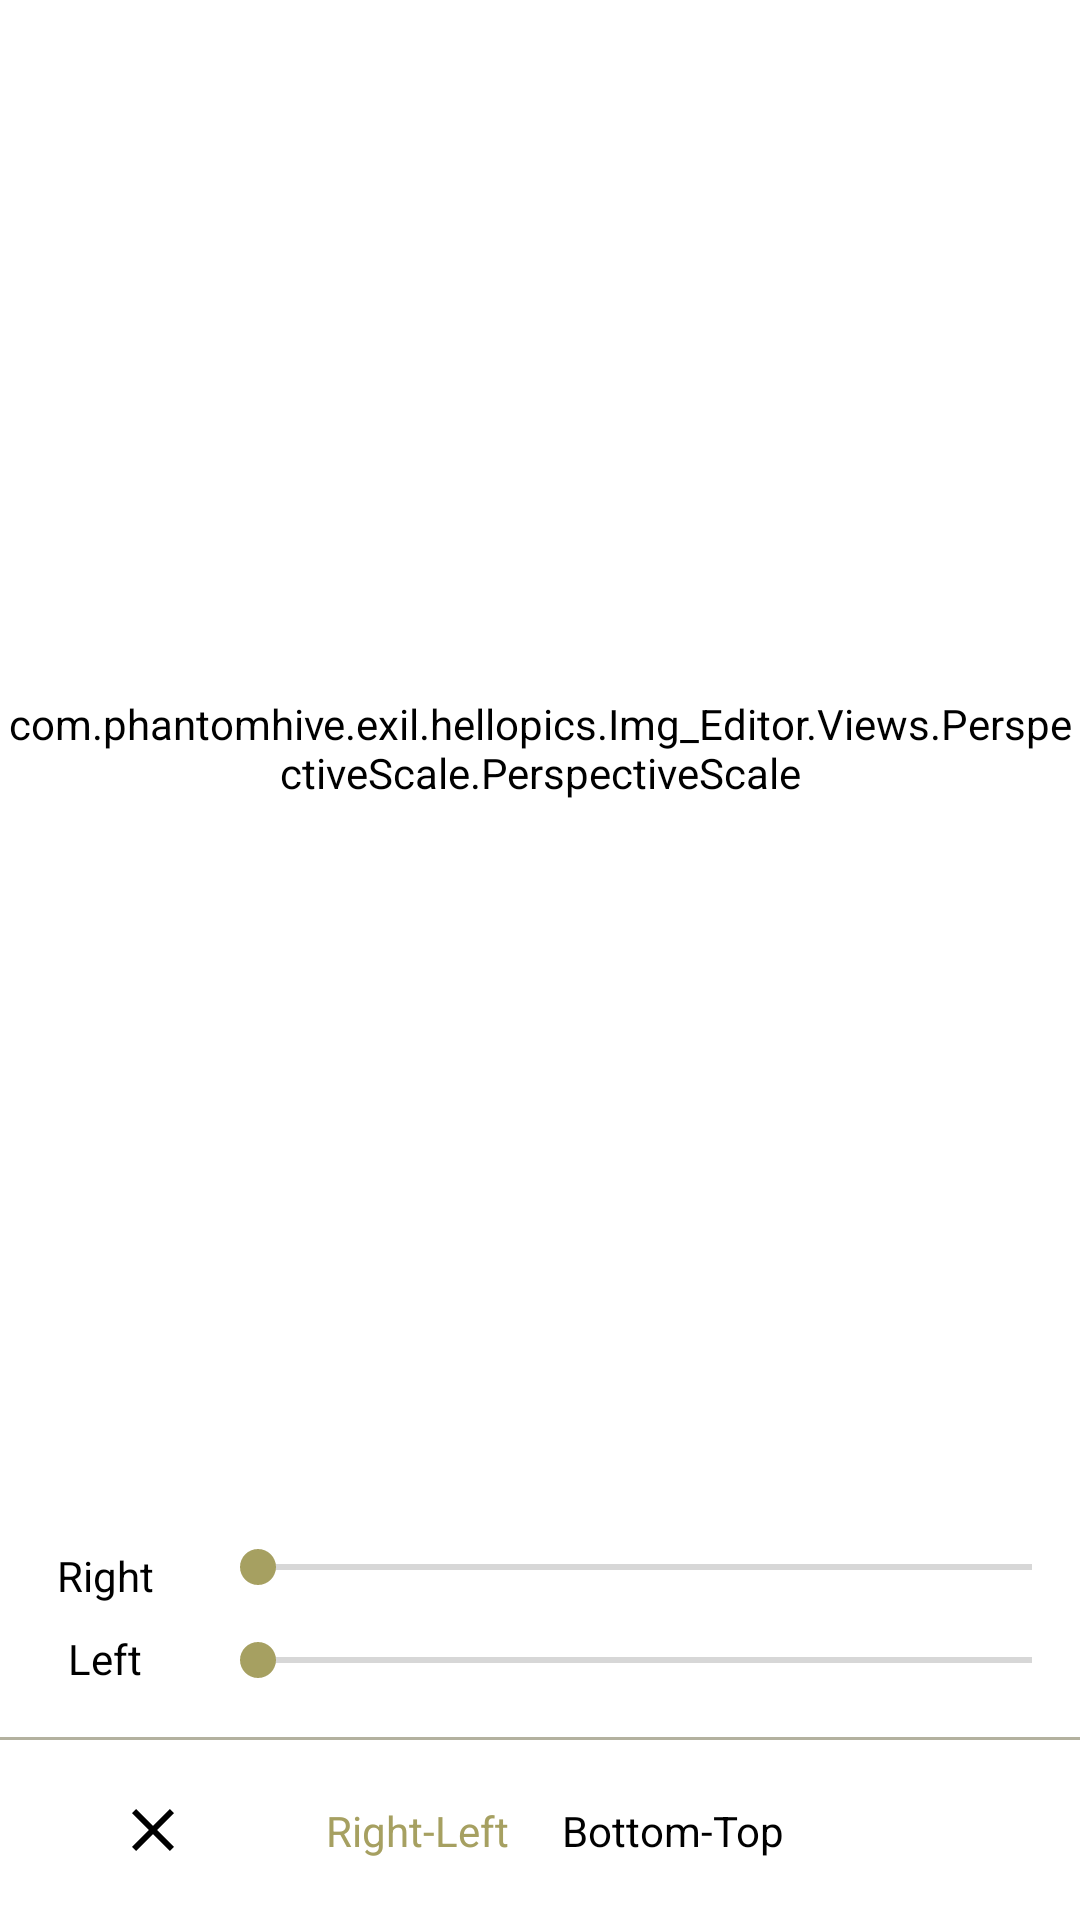

Named icons in this screenshot (1080 × 1920) and their centers, [x,y]:
close: [153,1830]
